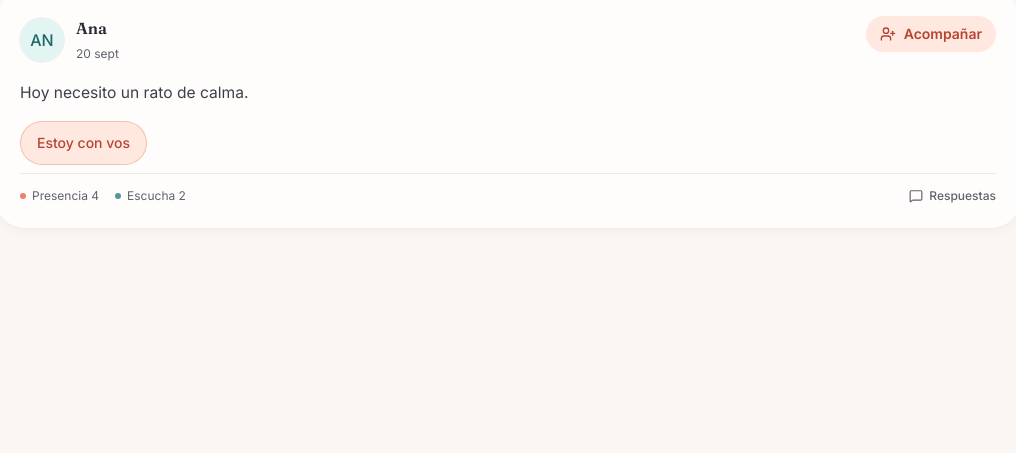
Test: PostCard responses › replaces WITH_YOU with HUG without changing family counts
Click the button "Estoy con vos" at (84, 143), box [20, 121, 147, 165]
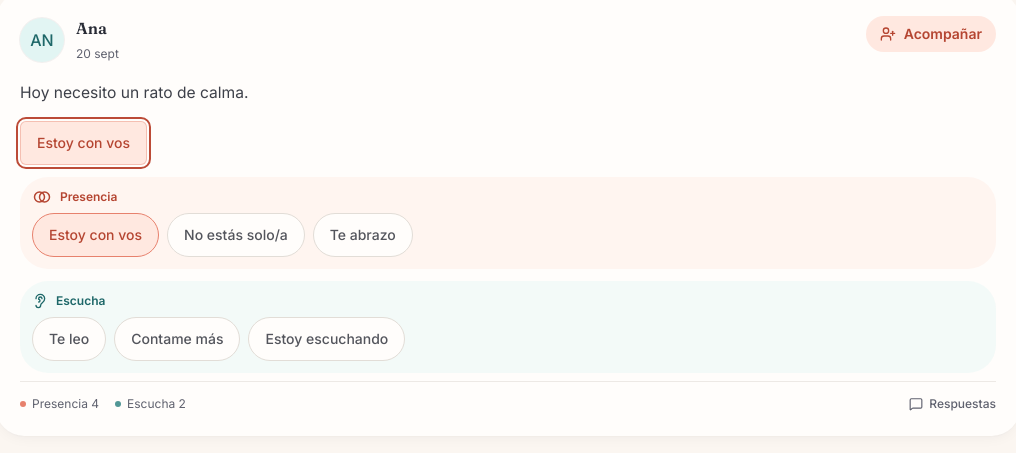
Click the button "Te abrazo" at (363, 235), box [313, 213, 413, 257]
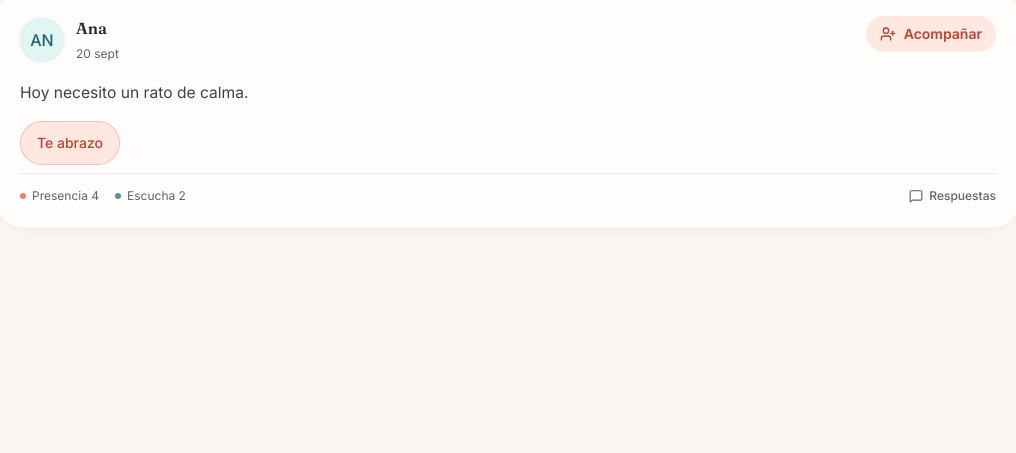
Expected: the text "Presencia 4" is shown, [20, 188, 99, 204]
Result: the button "Te abrazo" is shown at [20, 121, 120, 165]
